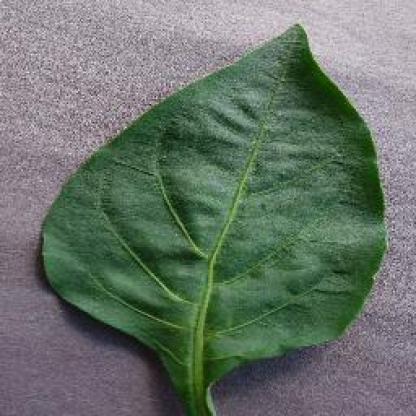good leaf: (40, 31, 397, 391)
